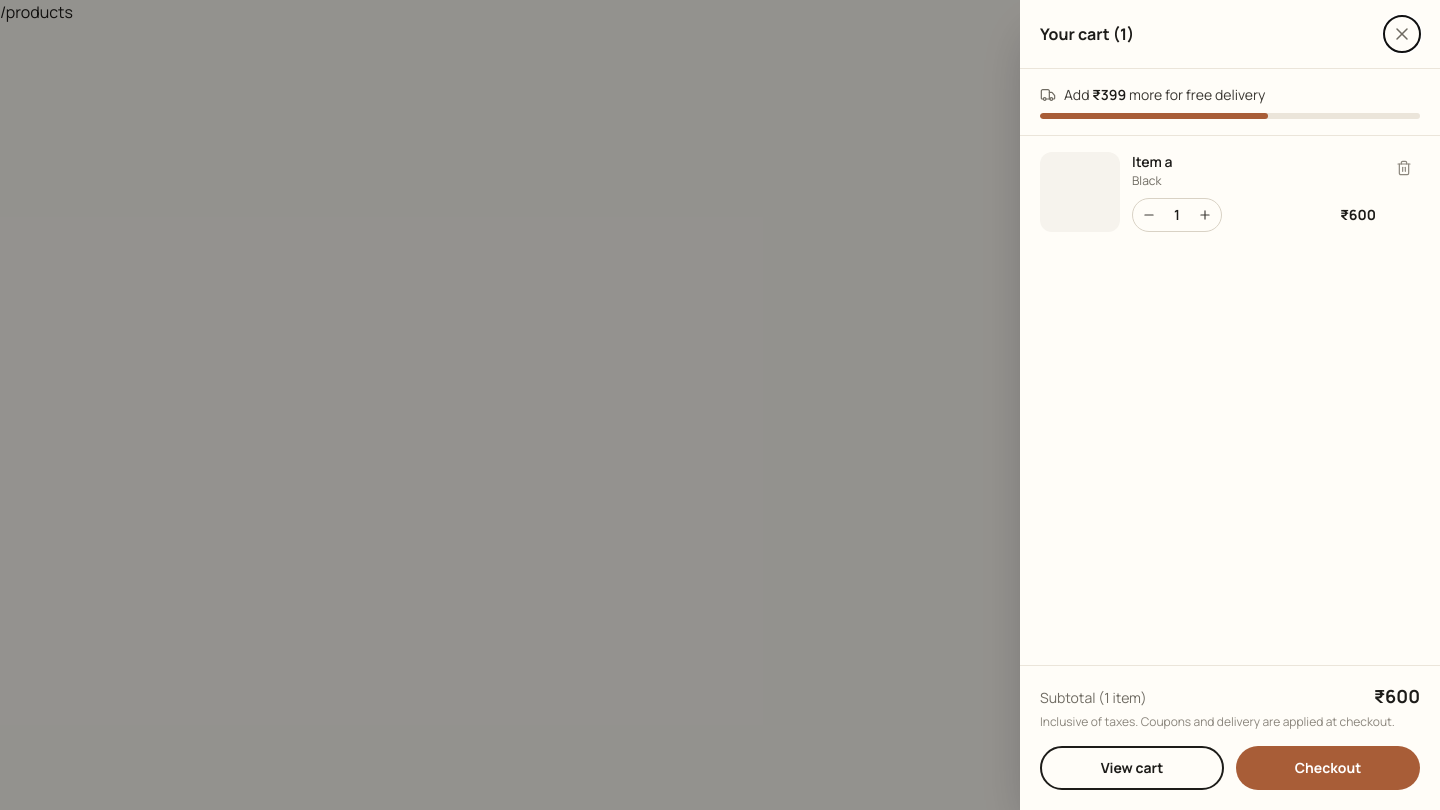
Test case: MiniCart › changes quantities, removes lines and unlocks free delivery
This screenshot has width=1440, height=810.
Expected: the text "Your cart (1)" is shown, [1040, 22, 1134, 46]
Click the button named "Increase quantity of Item a". click: (1205, 215)
box: [1189, 199, 1221, 231]
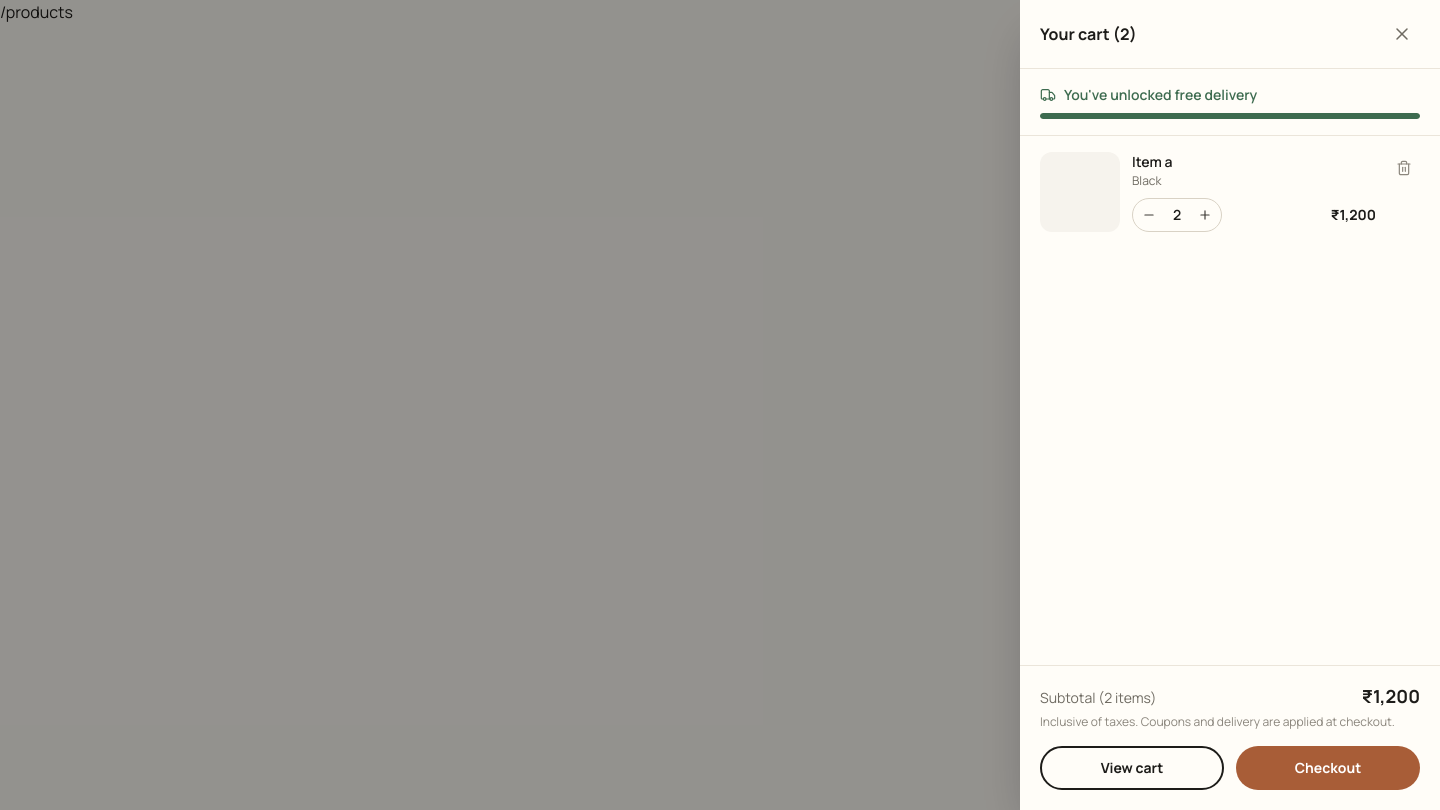
Now the text "You've unlocked free delivery" is shown, box [1064, 85, 1257, 105]
Click the button named "Remove Item a". click: (1404, 168)
box: [1388, 152, 1420, 184]
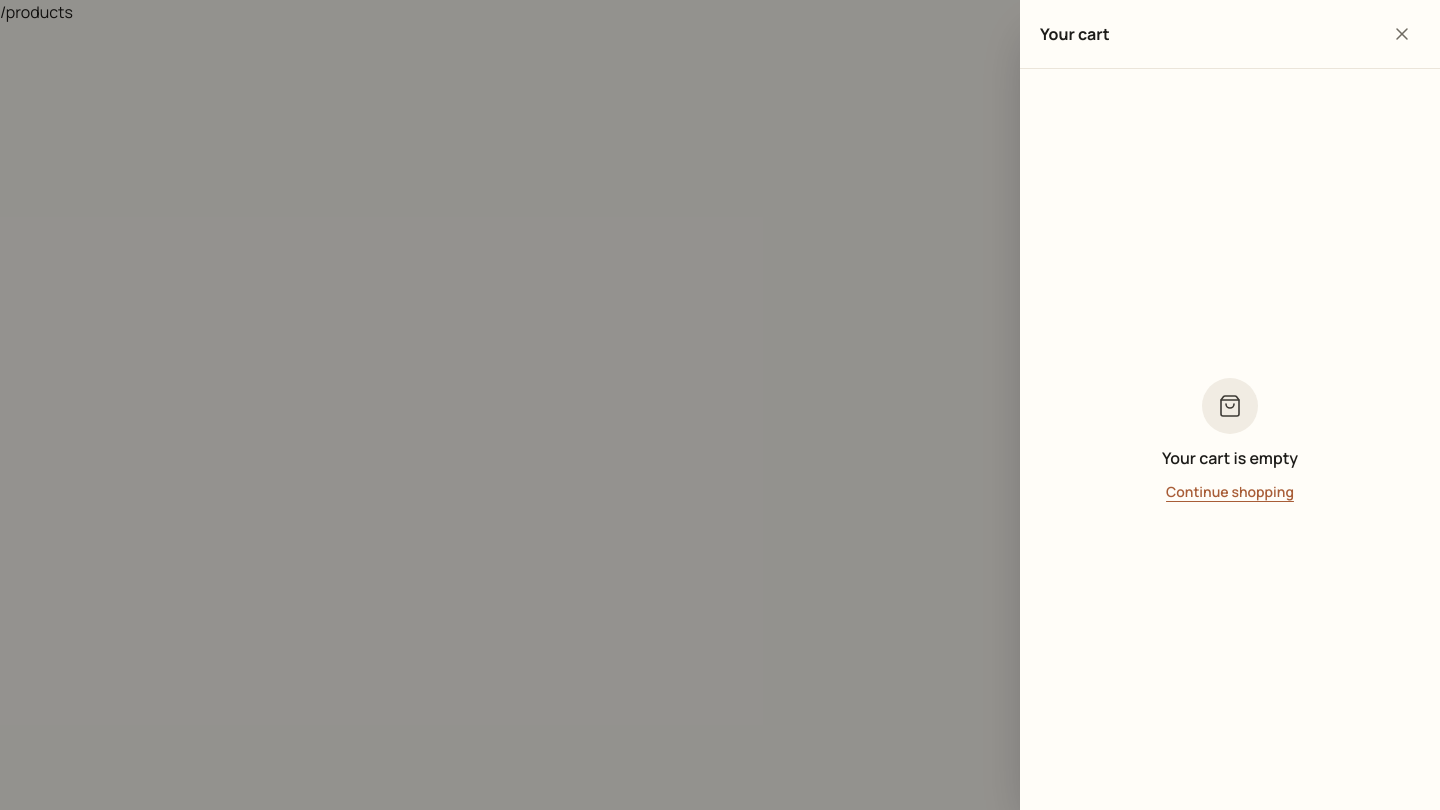
Now the text "Your cart is empty" is shown, box [1162, 446, 1298, 470]
